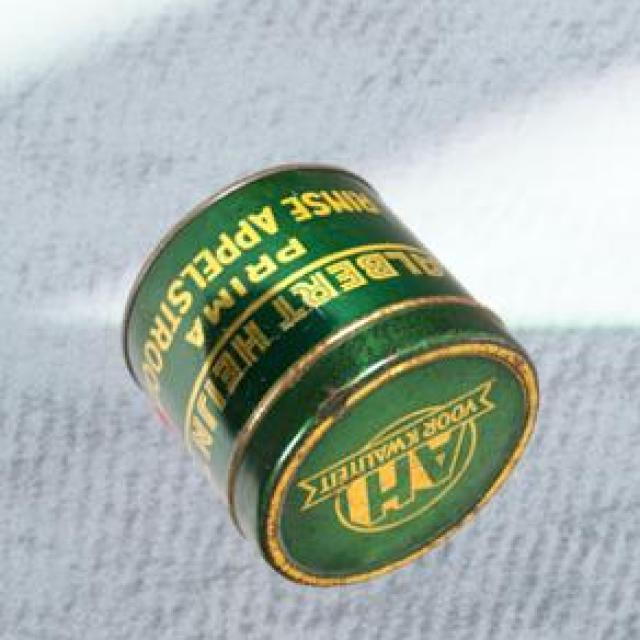logam: (126, 168, 542, 588), (155, 404, 173, 431)
